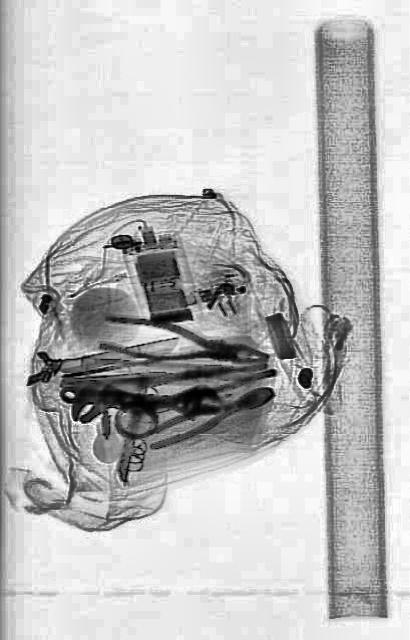Pliers: (144, 374, 278, 454), (99, 312, 270, 374)
